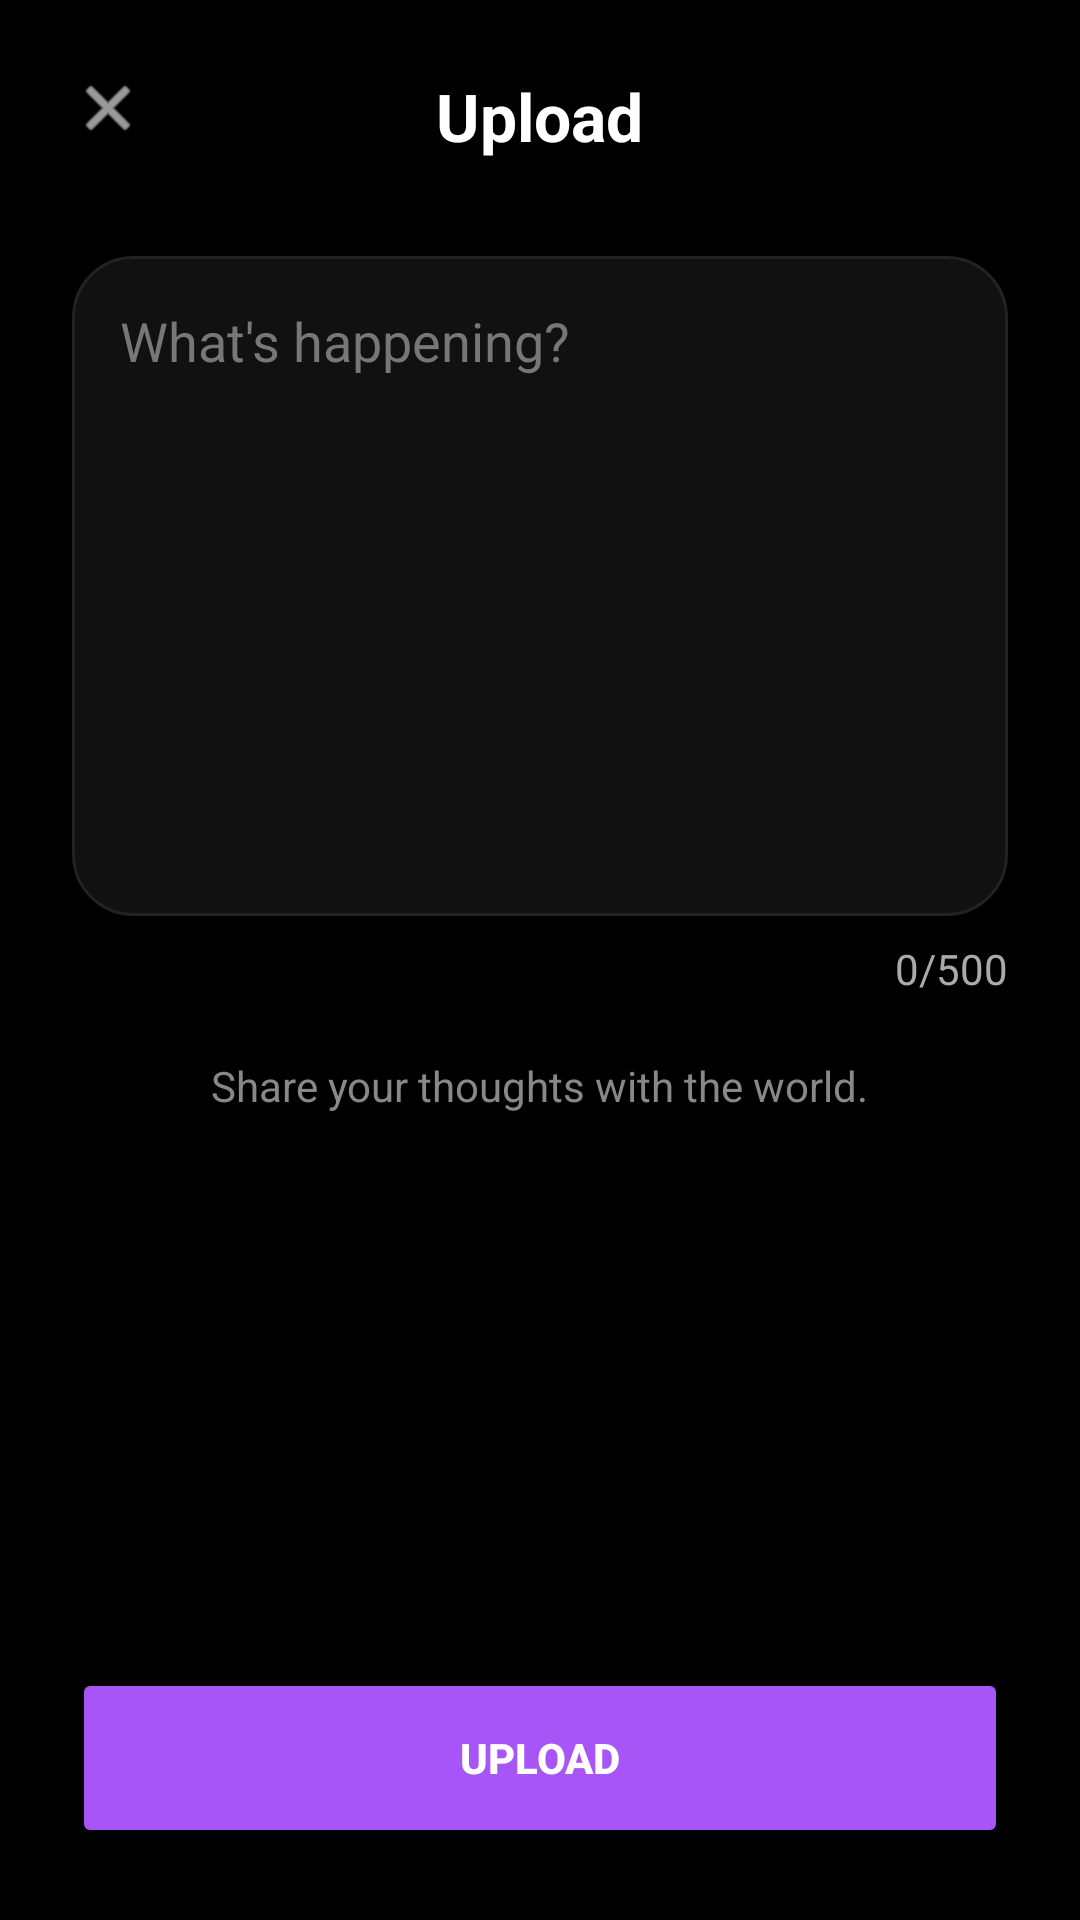

Named icons in this screenshot (1080 × 1920) and their bounding boxes, (x1, y1, x2, y2):
close clear cancel: (85, 85, 131, 131)
